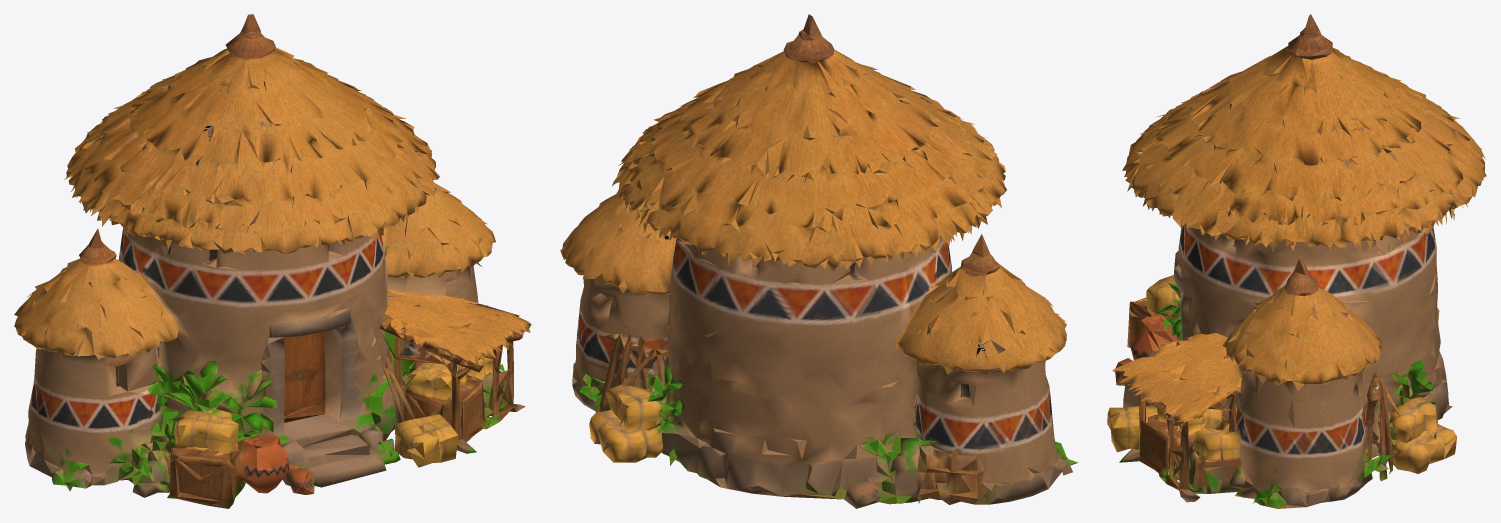
The picture shows the model from 3 angles, left to right: view 1: azimuth 30°, elevation 25°; view 2: azimuth 150°, elevation 25°; view 3: azimuth 270°, elevation 25°; orthographic projection. The views are drawn at different scales.
Parts seen in each view (by area): view 1: output_unwrapped; view 2: output_unwrapped; view 3: output_unwrapped.
Boxes of the visible parts, left/top/right/bottom form: output_unwrapped: left=14, top=14, right=531, bottom=508; output_unwrapped: left=560, top=14, right=1078, bottom=508; output_unwrapped: left=1107, top=14, right=1486, bottom=508.
Size of the model in its own units: 9.71 by 8 by 7.09.
Materials: 1 (1 with a texture image).
